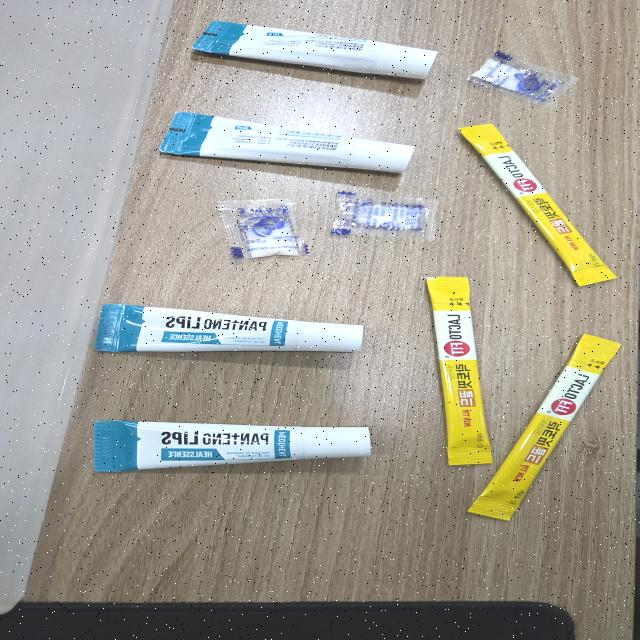lacto: (465, 330, 624, 520), (458, 117, 616, 293), (423, 271, 499, 469)
lib: (158, 112, 419, 174), (90, 420, 381, 474), (90, 302, 371, 356), (190, 19, 440, 78)
salt: (325, 185, 441, 246), (466, 49, 585, 108), (207, 195, 305, 263)
